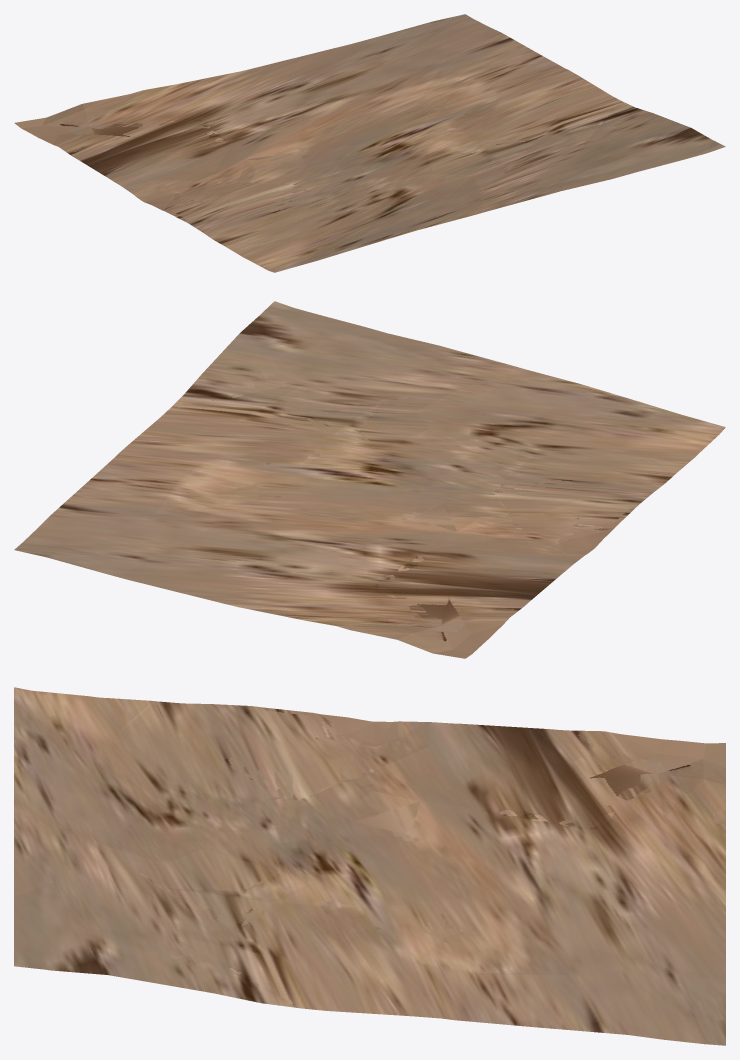
3 renders of one model, top to bottom at view 1: azimuth 30°, elevation 25°; view 2: azimuth 150°, elevation 25°; view 3: azimuth 270°, elevation 25°, orthographic. The views are drawn at different scales.
Size of the model in its own units: 2.09 by 0.2681 by 2.09.
Materials: 3 (3 with a texture image).
